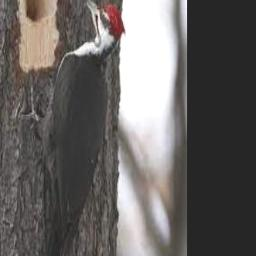Woodpecker: (22, 0, 125, 256)
